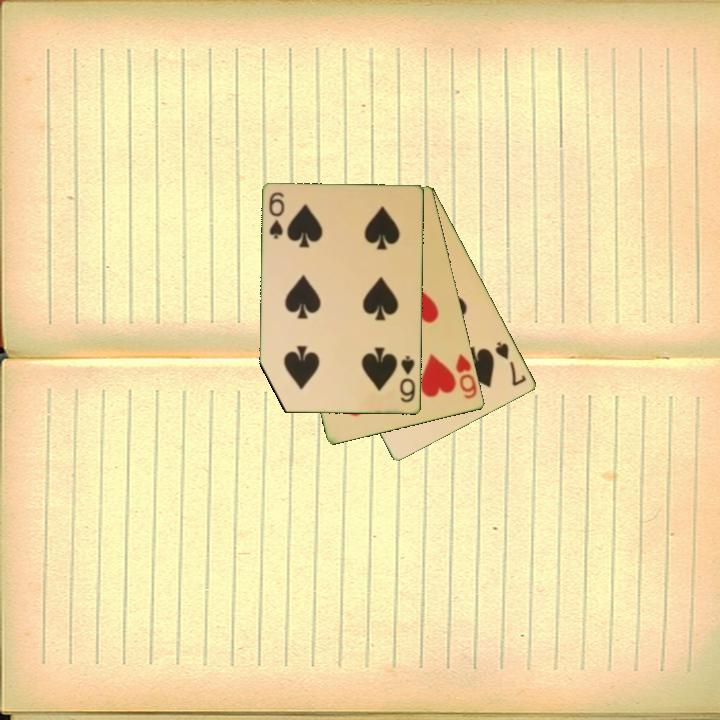6h: (453, 350, 480, 402)
6s: (396, 352, 418, 405), (266, 189, 287, 242)
7s: (492, 338, 529, 389)
